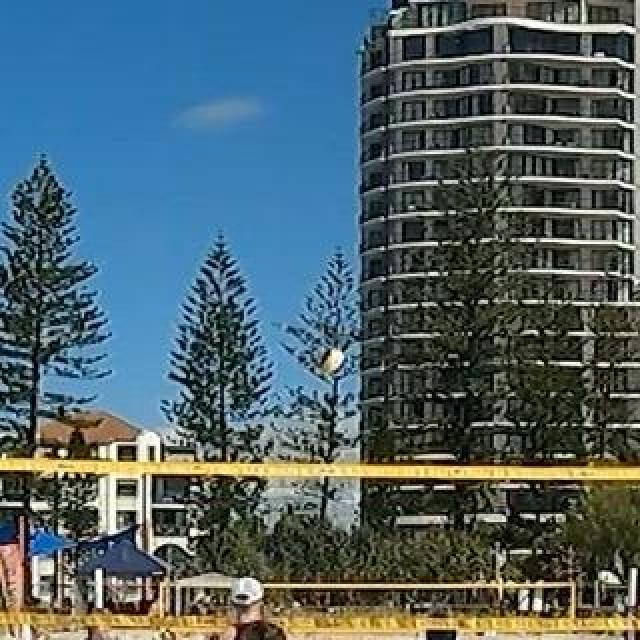volleyball: (318, 348, 346, 376)
